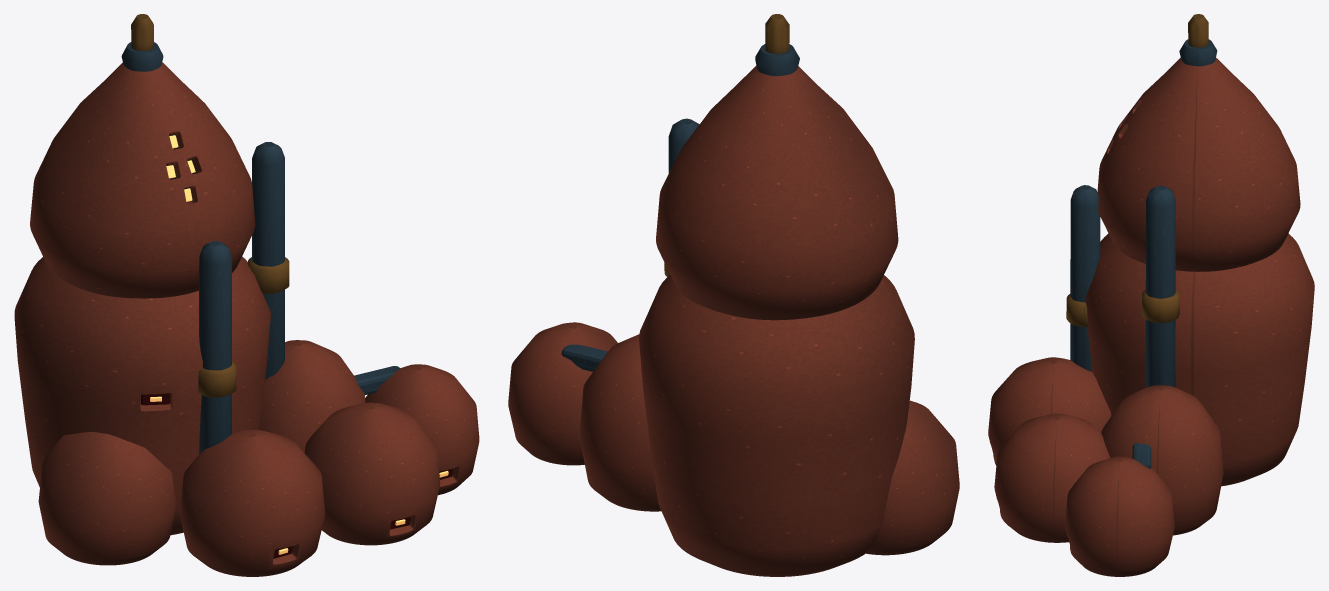
3 views of the same model, side by side, from view 1: azimuth 30°, elevation 25°; view 2: azimuth 150°, elevation 25°; view 3: azimuth 270°, elevation 25° (orthographic). The views are drawn at different scales.
Parts seen in each view (by area): view 1: AC21 upper onion chamber, AC21 grounded broad lower chamber, AC21 grounded small chamber 1, AC21 grounded small chamber 0, AC21 grounded small chamber 3, AC21 grounded small chamber 2, AC21 grounded small chamber 4, AC21 slate vertical fitting 0, AC21 slate vertical fitting 1, AC21 ochre middle coupling 0, AC21 ochre middle coupling 1, AC21 slate tip socket (+2 smaller); view 2: AC21 grounded broad lower chamber, AC21 upper onion chamber, AC21 grounded small chamber 2, AC21 grounded small chamber 4, AC21 grounded small chamber 0, AC21 slate tip socket, AC21 short ochre tip, AC21 slate vertical fitting 1, AC21 supported right slate connector; view 3: AC21 grounded broad lower chamber, AC21 upper onion chamber, AC21 grounded small chamber 4, AC21 grounded small chamber 2, AC21 grounded small chamber 3, AC21 grounded small chamber 1, AC21 slate vertical fitting 1, AC21 slate vertical fitting 0, AC21 ochre middle coupling 1, AC21 slate tip socket, AC21 short ochre tip, AC21 ochre middle coupling 0.
Part boxes in pixels (x1,y1,x2,y2): AC21 upper onion chamber: (30,62,255,298); AC21 grounded broad lower chamber: (14,256,270,535); AC21 grounded small chamber 1: (179,430,325,576); AC21 grounded small chamber 0: (38,432,176,565); AC21 grounded small chamber 3: (304,402,440,545); AC21 grounded small chamber 2: (259,340,365,452); AC21 grounded small chamber 4: (365,364,479,495); AC21 slate vertical fitting 0: (199,241,231,454); AC21 slate vertical fitting 1: (252,142,284,379); AC21 ochre middle coupling 0: (198,361,236,397); AC21 ochre middle coupling 1: (247,257,289,293); AC21 slate tip socket: (121,42,163,71); AC21 grounded broad lower chamber: (639,274,914,576); AC21 upper onion chamber: (656,66,898,320); AC21 grounded small chamber 2: (579,334,660,511); AC21 grounded small chamber 4: (508,322,617,465); AC21 grounded small chamber 0: (866,400,959,555); AC21 slate tip socket: (755,44,799,76); AC21 short ochre tip: (765,14,789,53); AC21 slate vertical fitting 1: (668,118,699,173); AC21 supported right slate connector: (561,344,607,371); AC21 grounded broad lower chamber: (1085,233,1314,486); AC21 upper onion chamber: (1097,57,1300,271); AC21 grounded small chamber 4: (1065,456,1174,576); AC21 grounded small chamber 2: (1101,385,1223,535); AC21 grounded small chamber 3: (994,413,1110,542); AC21 grounded small chamber 1: (988,357,1111,465); AC21 slate vertical fitting 1: (1145,185,1175,387); AC21 slate vertical fitting 0: (1070,185,1100,371); AC21 ochre middle coupling 1: (1141,290,1179,323); AC21 slate tip socket: (1179,39,1217,66); AC21 short ochre tip: (1188,14,1208,47); AC21 ochre middle coupling 0: (1066,294,1088,326).
Size of the model in its own units: 2.75 by 3.1 by 2.08.
Materials: 6 (5 with a texture image).
